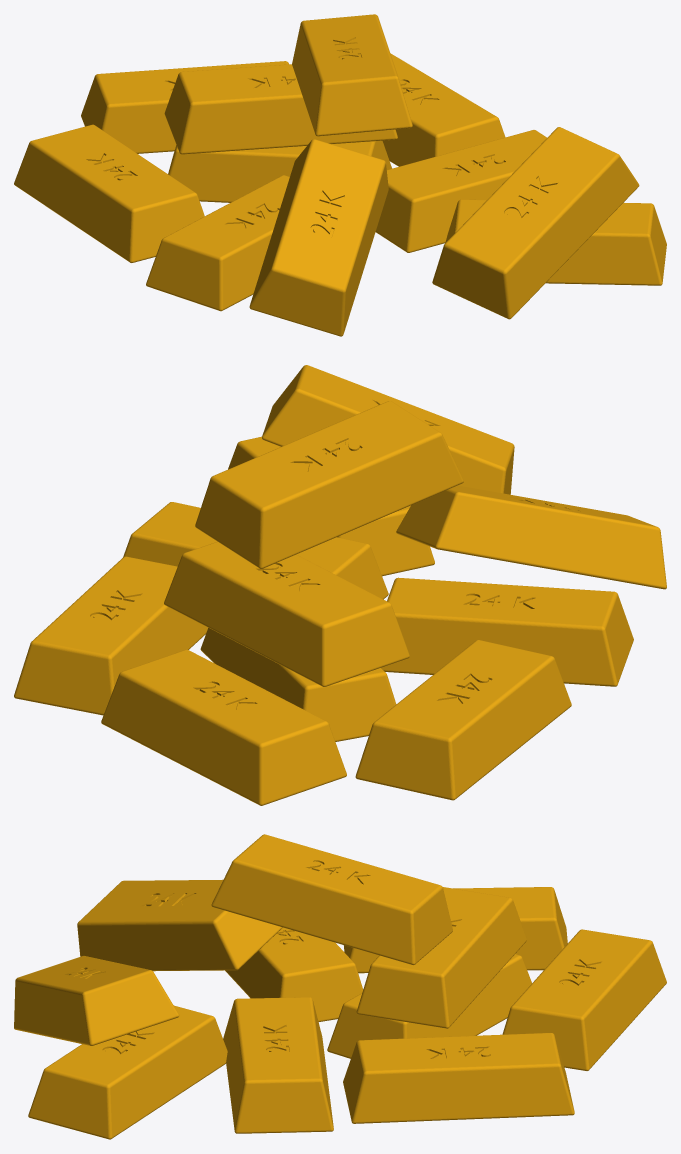
Rendered from grupoOuro.glb.
3 views of the same model, one above another, from view 1: azimuth 30°, elevation 25°; view 2: azimuth 150°, elevation 25°; view 3: azimuth 270°, elevation 25° (orthographic). The views are drawn at different scales.
Parts seen in each view (by area): view 1: Object_4.002; view 2: Object_4.002; view 3: Object_4.002.
Part boxes in pixels (box(x1,y1,x2,y2)): Object_4.002: box(14, 14, 666, 336); Object_4.002: box(14, 365, 666, 805); Object_4.002: box(14, 834, 666, 1139).
Bounding box in the file's own units: 10.27 × 3.98 × 13.27.
